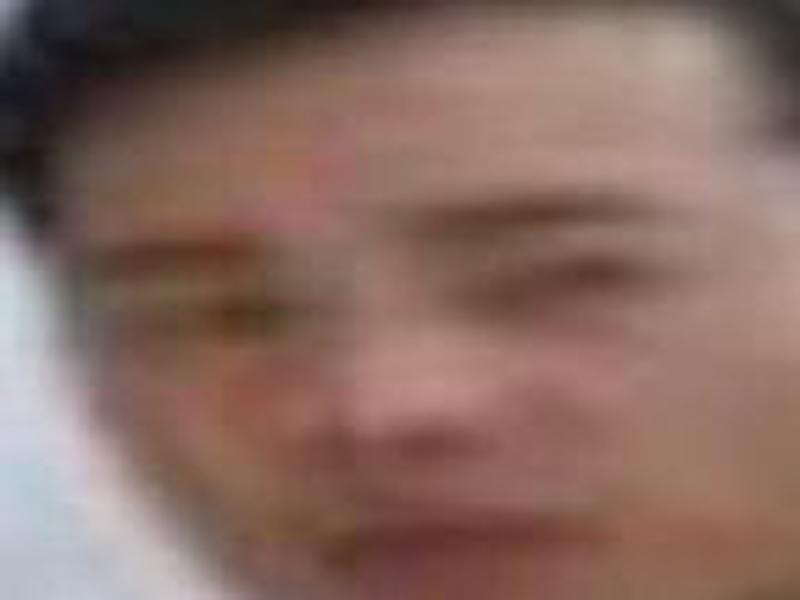without_mask: (42, 33, 800, 600)
